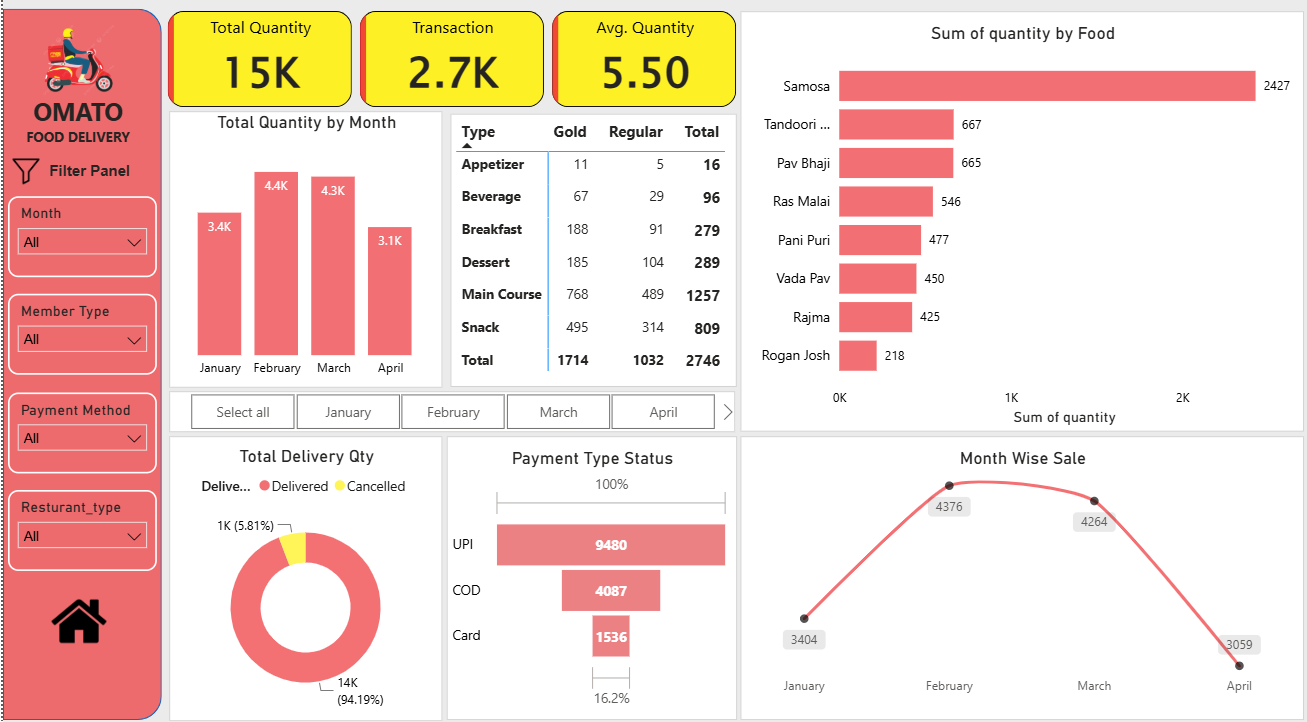

This screenshot's page, from the dashboard's own definition file:
{"tool":"powerbi","page":{"name":"Page 1","canvas":[1280,720],"ordinal":0},"visuals":[{"type":"shape","box":[0,13.5,155.3,695.8],"z":0},{"type":"image","box":[7.5,25,133.8,78.8],"z":1000},{"type":"textbox","box":[3.7,92.9,139.4,68.5],"z":2000},{"type":"slicer","fields":{"Values":["Sales Data.orderDate.Variation.Date Hierarchy.Month"]},"box":[4.9,197.1,145.5,79.5],"z":3000},{"type":"slicer","fields":{"Values":["Customer Details.member_Type"]},"box":[4.9,292.5,145.5,79.5],"z":4000},{"type":"slicer","fields":{"Values":["Sales Data.payment_method"]},"box":[4.9,389.1,145.5,79.5],"z":5000},{"type":"slicer","fields":{"Values":["Resturant_Details.Resturant_type"]},"box":[4.9,484.5,145.5,79.5],"z":6000},{"type":"image","box":[40.4,585.7,68.5,53.8],"z":7000},{"type":"image","box":[6.1,159,33,26.9],"z":8000},{"type":"textbox","box":[37.9,157.7,94.2,29.3],"z":9000},{"type":"cardVisual","fields":{"Data":["Sales Data.Total Quantity","Sales Data.Transaction","Sales Data.Avg. Quantity"]},"box":[148.8,3.8,581.2,118.8],"z":10000},{"type":"clusteredColumnChart","fields":{"Category":["Sales Data.orderDate.Variation.Date Hierarchy.Month"],"Y":["Sales Data.Total Quantity"]},"box":[162.5,113.8,267.5,270],"z":11000},{"type":"slicer","fields":{"Values":["Sales Data.orderDate.Variation.Date Hierarchy.Month"]},"box":[162.5,387.5,553.8,40],"z":12000},{"type":"donutChart","title":"Total Delivery Qty","fields":{"Category":["Sales Data.deliver_status"],"Y":["Sum(Sales Data.quantity)"]},"box":[162.5,431.3,267.6,278.8],"z":13000},{"type":"funnel","title":"Payment Type Status","fields":{"Category":["Sales Data.payment_method"],"Y":["Sum(Sales Data.quantity)"]},"box":[433.8,431.2,283.8,277.5],"z":14000},{"type":"pivotTable","fields":{"Columns":["Customer Details.member_Type"],"Values":["CountNonNull(Sales Data.quantity)"],"Rows":["Food_Details.Type"]},"box":[437.5,116.2,280,267.5],"z":15000},{"type":"clusteredBarChart","fields":{"Category":["Food_Details.Food"],"Y":["Sum(Sales Data.quantity)"]},"box":[721.2,16.2,551.2,411.2],"z":16000},{"type":"lineChart","title":"Month Wise Sale","fields":{"Y":["Sales Data.Total Quantity"],"Category":["Sales Data.orderDate.Variation.Date Hierarchy.Month"]},"box":[721.2,431.2,551.2,277.5],"z":17000}]}

Visuals, with their boxes in screenshot pixels (x1, y1, x2, y2), scaled from the page's 1280x720 canvas onto the 1307x722 screenshot:
shape: <region>0, 14, 159, 711</region>
image: <region>8, 25, 144, 104</region>
textbox: <region>4, 93, 146, 162</region>
slicer - Sales Data.orderDate.Variation.Date Hierarchy.Month: <region>5, 198, 154, 277</region>
slicer - Customer Details.member_Type: <region>5, 293, 154, 373</region>
slicer - Sales Data.payment_method: <region>5, 390, 154, 470</region>
slicer - Resturant_Details.Resturant_type: <region>5, 486, 154, 566</region>
image: <region>41, 587, 111, 641</region>
image: <region>6, 159, 40, 186</region>
textbox: <region>39, 158, 135, 188</region>
cardVisual - Sales Data.Total Quantity x Sales Data.Transaction: <region>152, 4, 745, 123</region>
clusteredColumnChart - Sales Data.orderDate.Variation.Date Hierarchy.Month x Sales Data.Total Quantity: <region>166, 114, 439, 385</region>
slicer - Sales Data.orderDate.Variation.Date Hierarchy.Month: <region>166, 389, 731, 429</region>
"Total Delivery Qty" donutChart: <region>166, 432, 439, 712</region>
"Payment Type Status" funnel: <region>443, 432, 733, 711</region>
pivotTable - Customer Details.member_Type x CountNonNull(Sales Data.quantity): <region>447, 117, 733, 385</region>
clusteredBarChart - Food_Details.Food x Sum(Sales Data.quantity): <region>736, 16, 1299, 429</region>
"Month Wise Sale" lineChart: <region>736, 432, 1299, 711</region>
